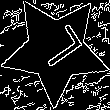L_SW: (27, 23, 84, 77)
